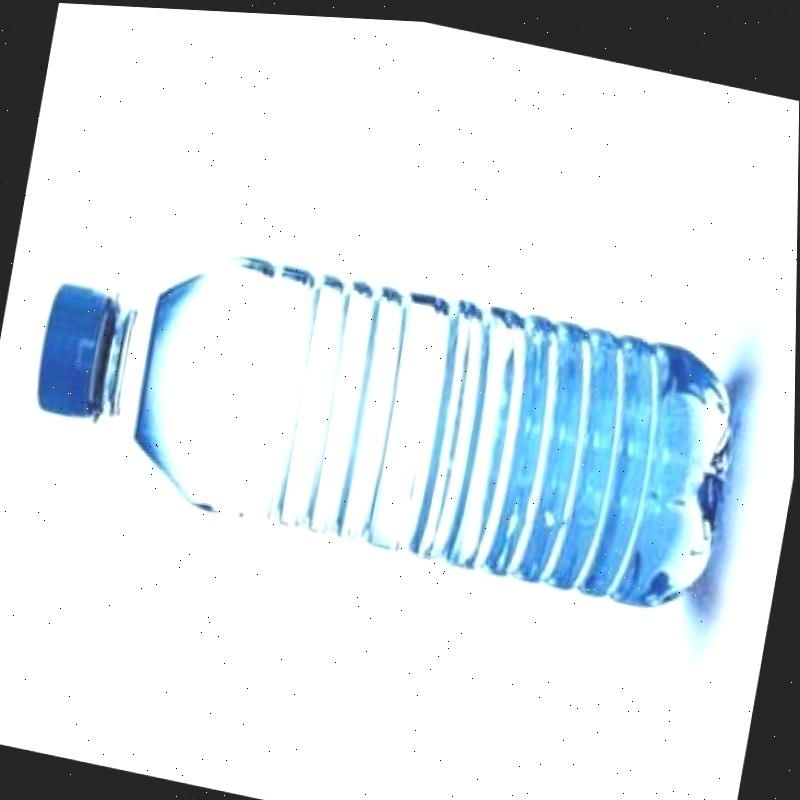botella: (17, 210, 750, 619)
